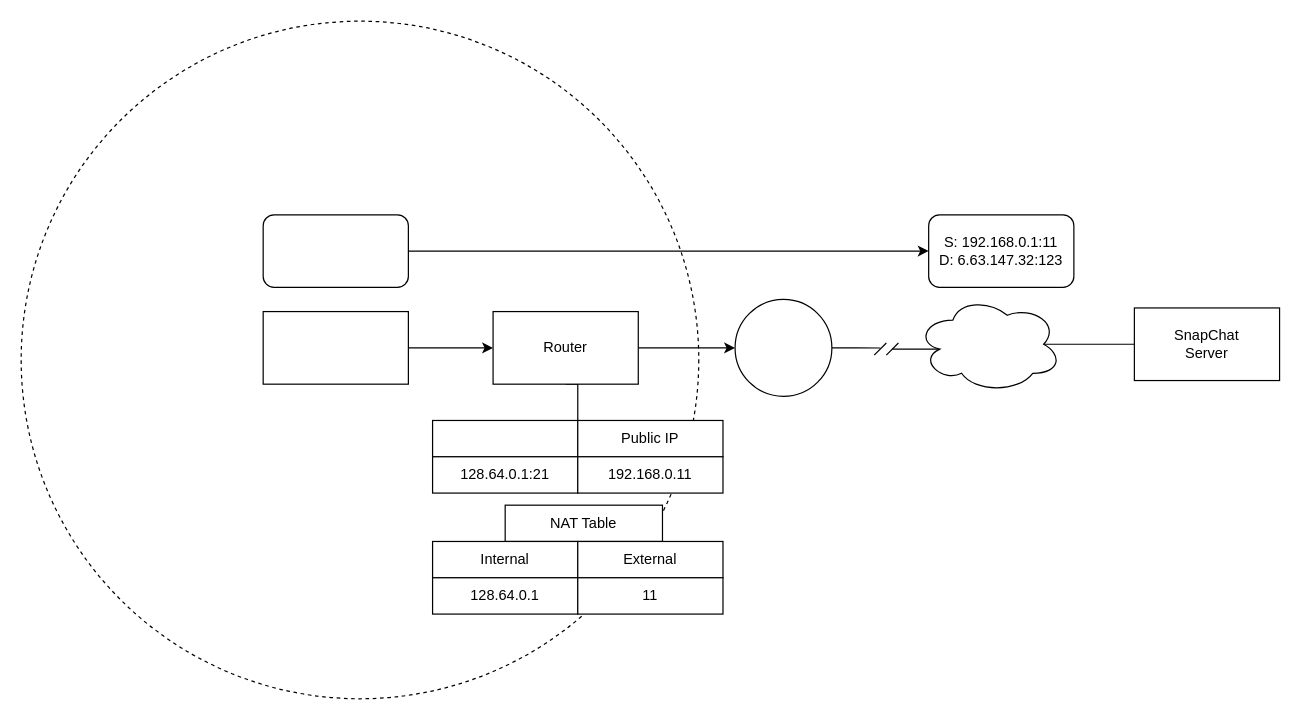
This 1301x720 diagram has some shape labels left out. The shapes that lost their labels are listed below. From the top down, each one's box as (x1, y1, x2, y2) in pixels, then its label:
(262, 214, 408, 287): S: 128.64.0.1:21 D: 6.63.147.32:123
(262, 310, 408, 384): Laptop
(734, 298, 832, 396): POP
(915, 295, 1062, 393): Internet
(431, 419, 578, 457): Private IP
